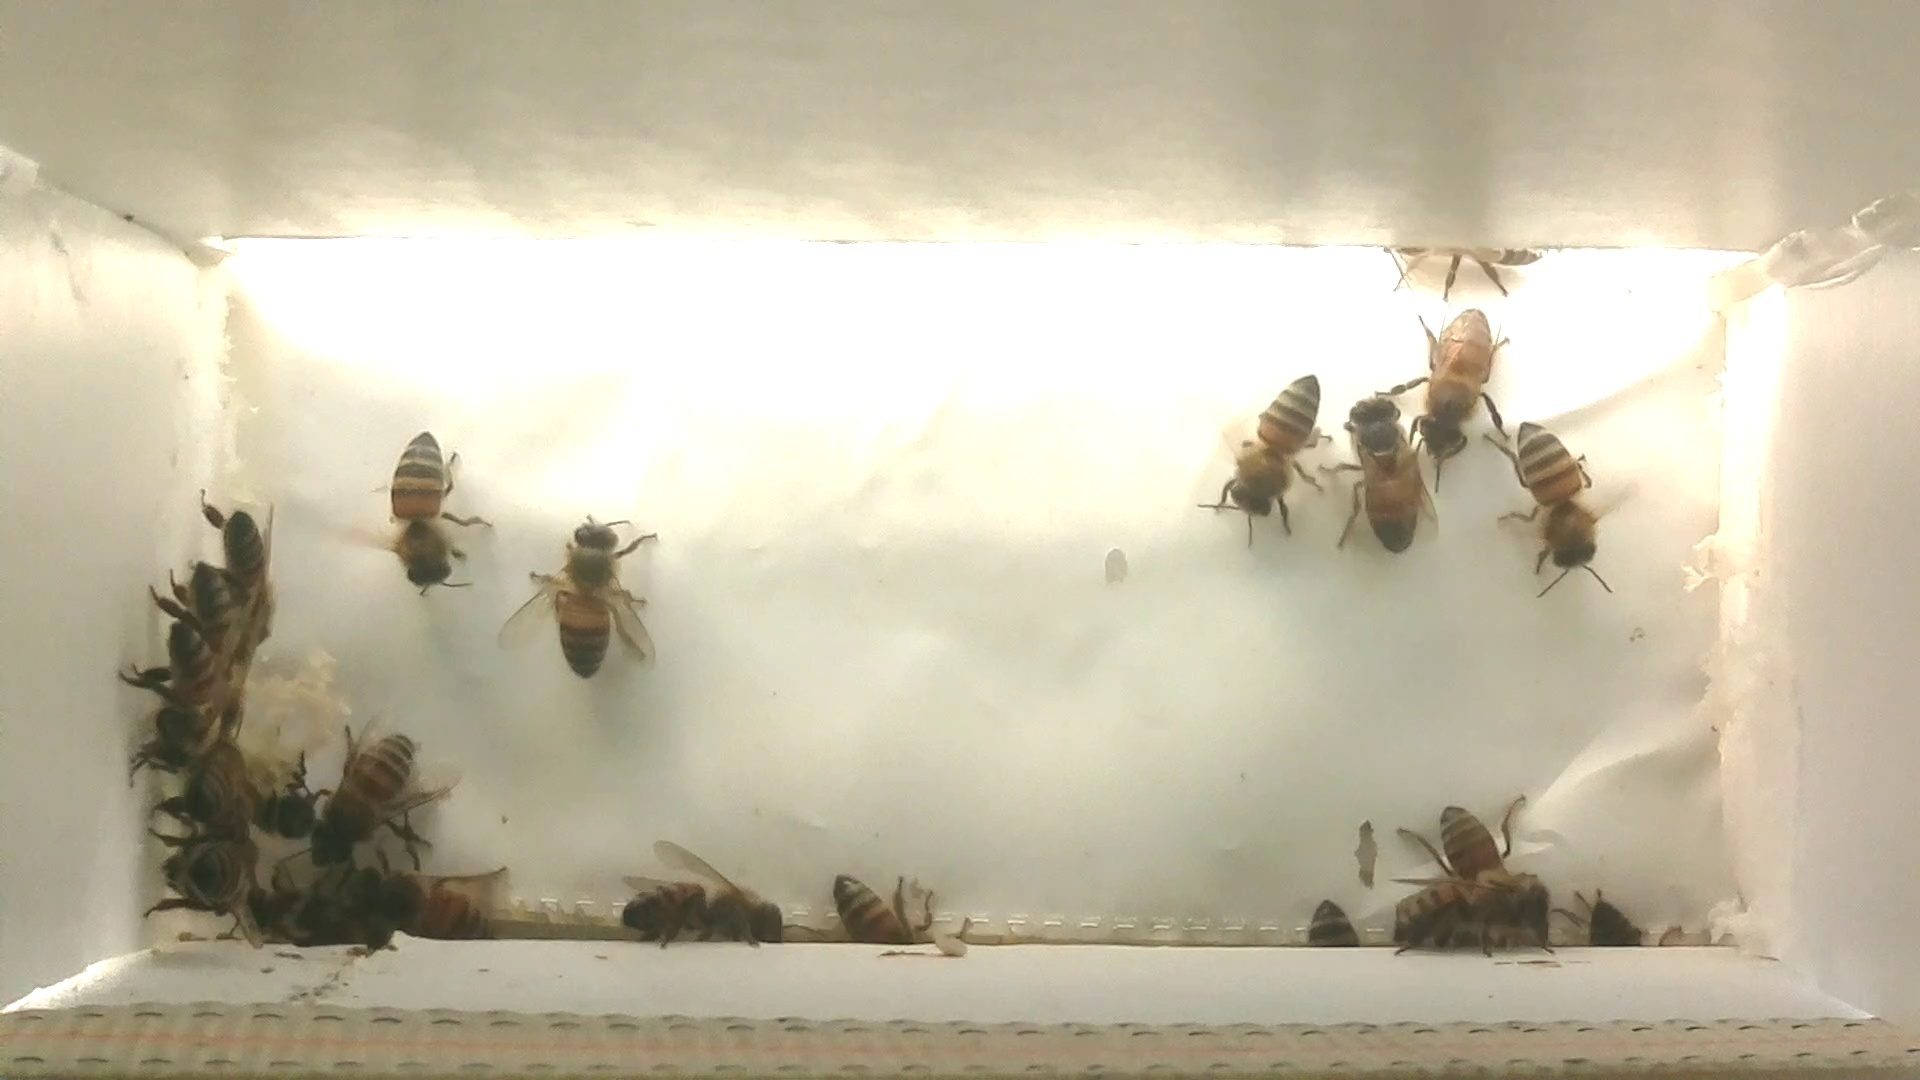bee: (488, 491, 674, 696), (344, 419, 506, 611), (1199, 345, 1341, 550), (1478, 409, 1629, 599), (305, 704, 459, 874), (1320, 381, 1458, 570), (1379, 837, 1568, 969), (1394, 290, 1513, 477), (185, 489, 299, 666), (613, 851, 789, 964), (336, 849, 505, 957), (1403, 781, 1551, 903), (129, 618, 236, 769), (806, 858, 957, 963), (1381, 233, 1575, 305), (169, 560, 260, 703), (141, 823, 253, 931), (1567, 872, 1669, 963), (171, 748, 262, 840), (1284, 876, 1370, 955)
